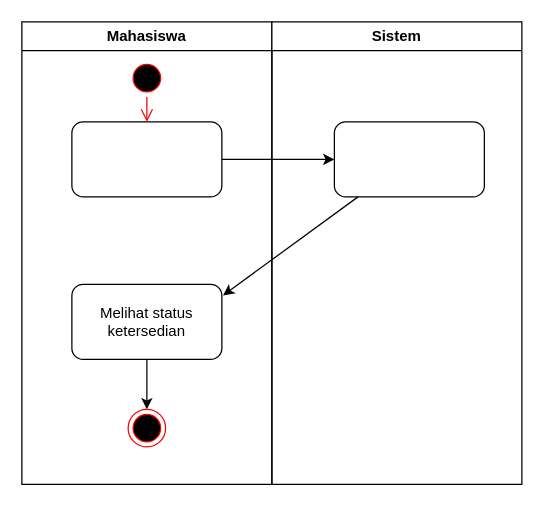
Image size: 544x506. Some labels were removed from this diagram. The box of each missing label's shape, as (x1, y1, x2, y2) in pixels:
Membuka katalog untuk mencari buku: (71, 121, 222, 197)
Menampilkan list buku dan status buku: (333, 121, 484, 197)
